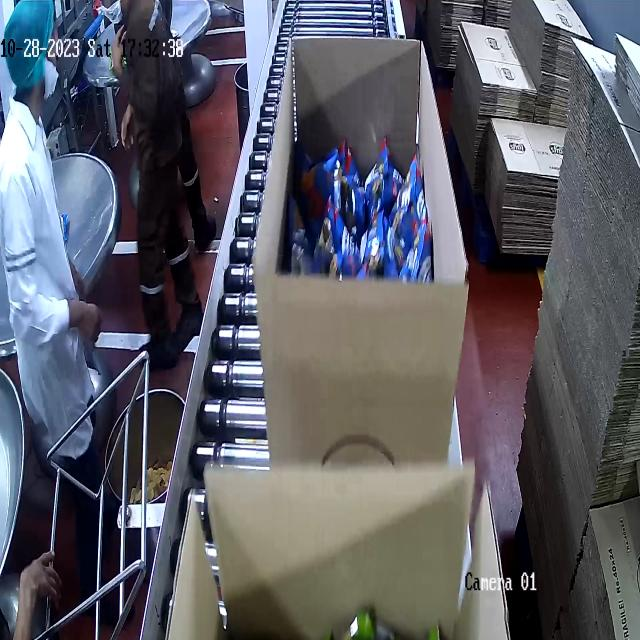PAPRIKA: (296, 144, 432, 287)
